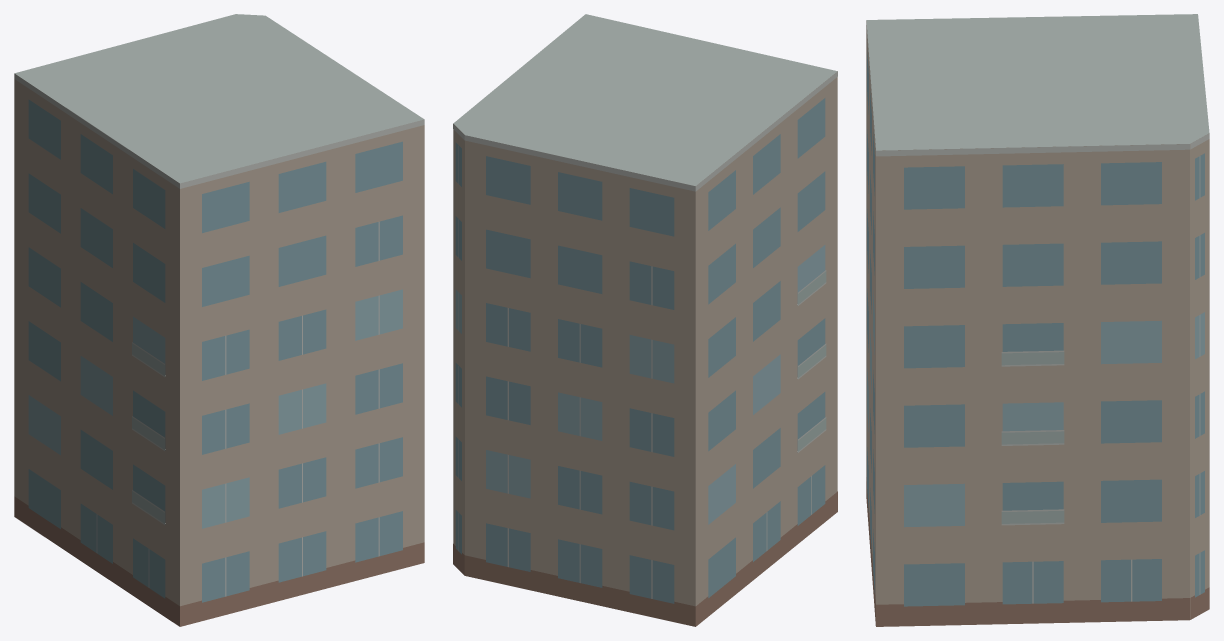
The model's file is survey-upis-33019302.glb.
The picture shows the model from 3 angles, left to right: view 1: azimuth 30°, elevation 25°; view 2: azimuth 150°, elevation 25°; view 3: azimuth 270°, elevation 25°; orthographic projection. The views are drawn at different scales.
Visible parts, largest first — view 1: survey-upis-33019302.tmp; view 2: survey-upis-33019302.tmp; view 3: survey-upis-33019302.tmp.
Part boxes in pixels (bbox=[...]): survey-upis-33019302.tmp: bbox=[14, 14, 424, 626]; survey-upis-33019302.tmp: bbox=[453, 14, 837, 626]; survey-upis-33019302.tmp: bbox=[866, 14, 1209, 626].
Bounding box in the file's own units: 12.17 × 19.78 × 12.92.
